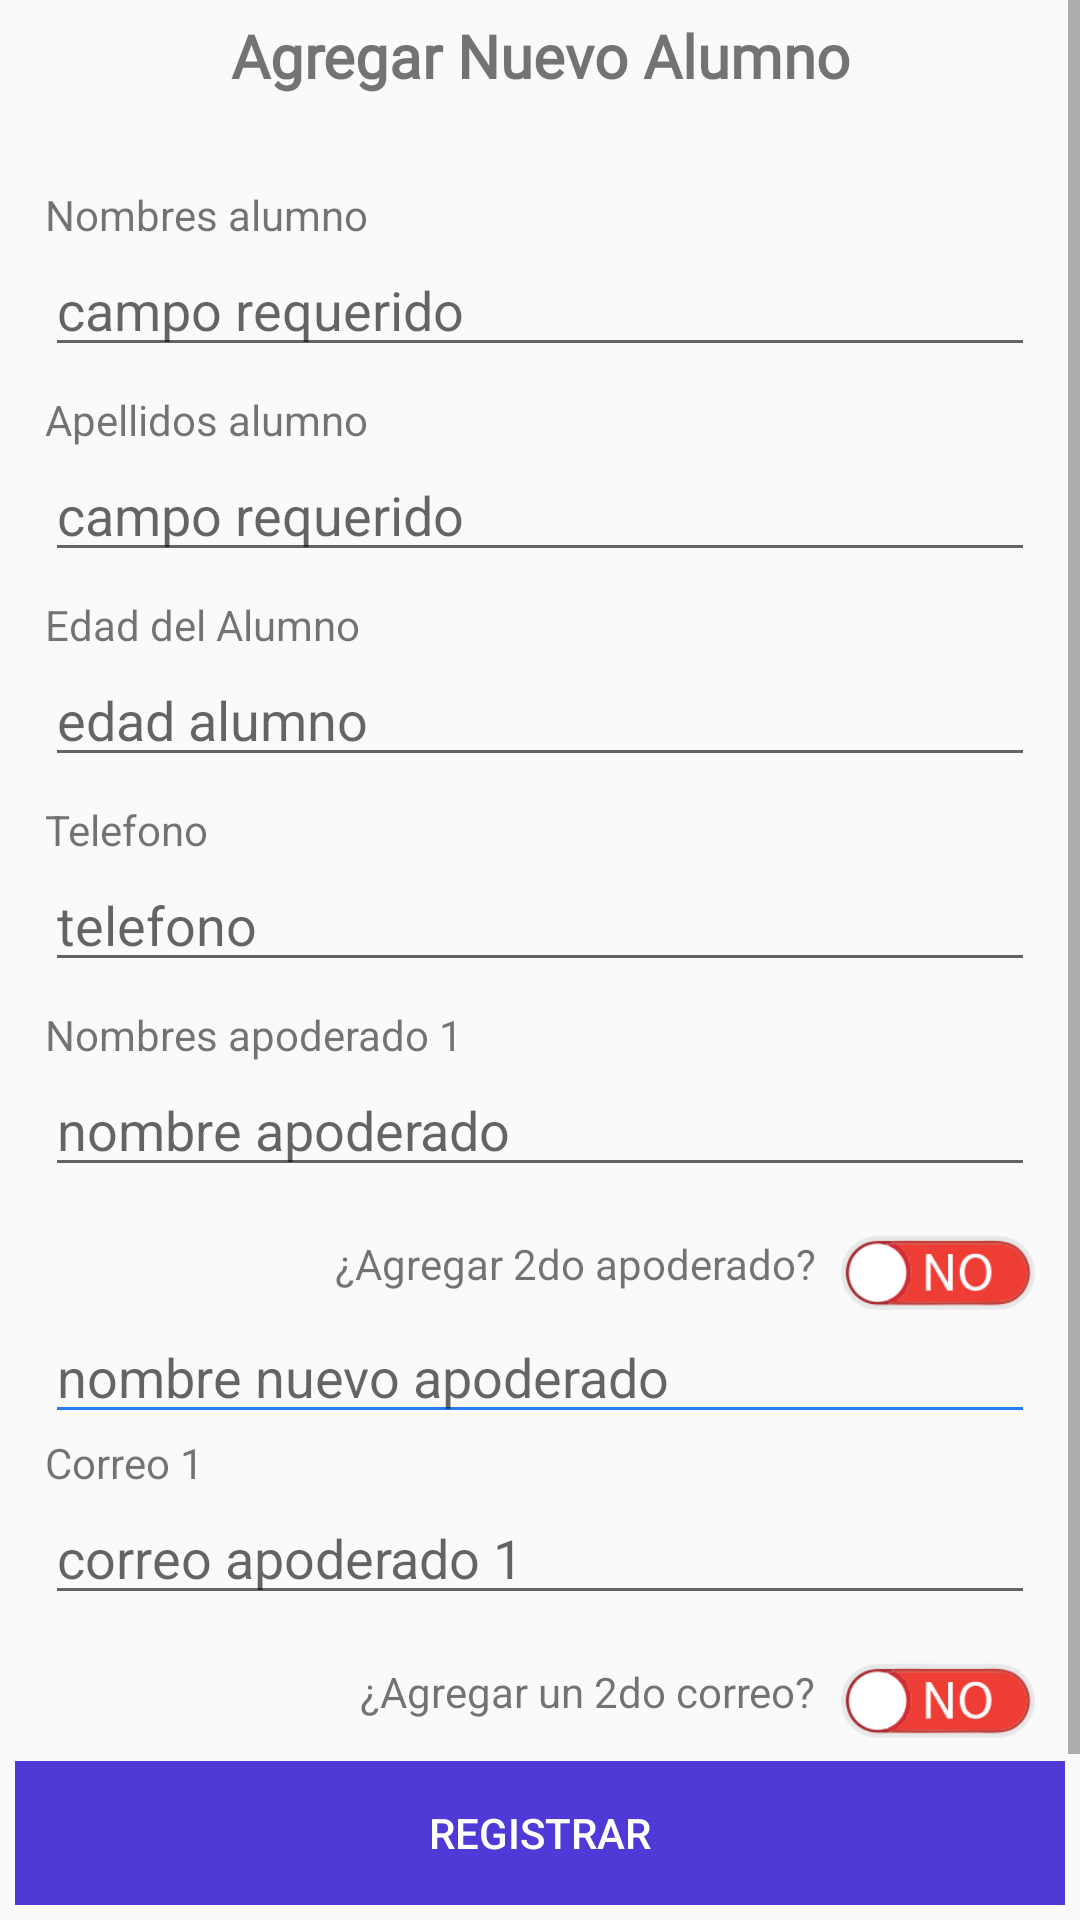

Icon bounding boxes for this 1080x1920 phone screenshot, format (x1,y1,x2,y2):
togle option: (845,1239,1031,1306), (845,1667,1031,1734)
